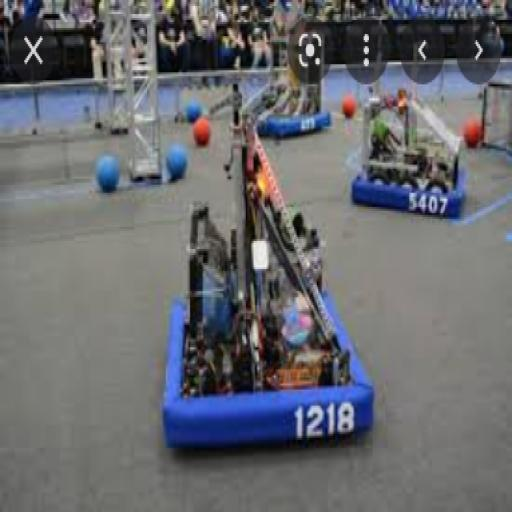robot: (156, 86, 373, 440), (352, 80, 465, 217), (240, 28, 332, 145)
